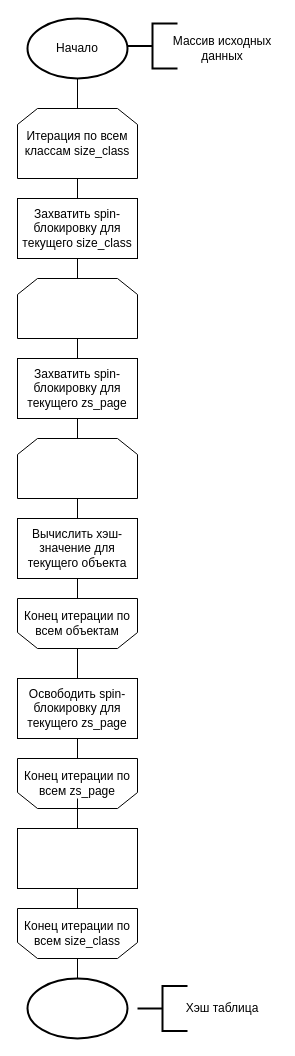
The diagram is 295 pixels wide and 1056 high, and some of its shapes have lost their labels. Here are the shapes that lost their labels. From the top down, the centre of each, then its label:
At (77,308): "Итерация по всем zs_page внутри текущего size_class".
At (77,468): "Итерация по всем объектам внутри текущей zs_page".
At (77,858): "Освободить spin-блокировку для текущего size_class".
At (77,1008): "Конец".
